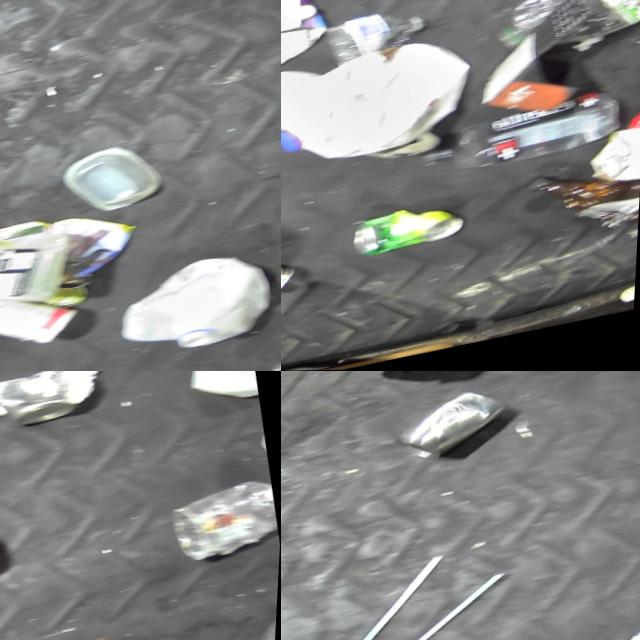can: (397, 380, 526, 474), (344, 199, 466, 259), (0, 371, 108, 429)
milk_jug: (281, 33, 489, 173), (109, 248, 281, 366), (0, 221, 82, 323), (171, 371, 264, 408)
plastic_bottle: (422, 103, 609, 177), (306, 5, 443, 73), (479, 0, 640, 55)
